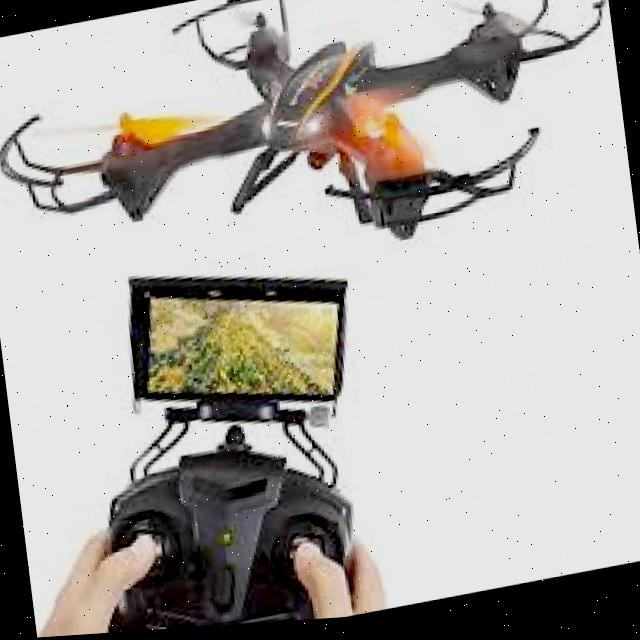drone: (0, 0, 633, 325)
